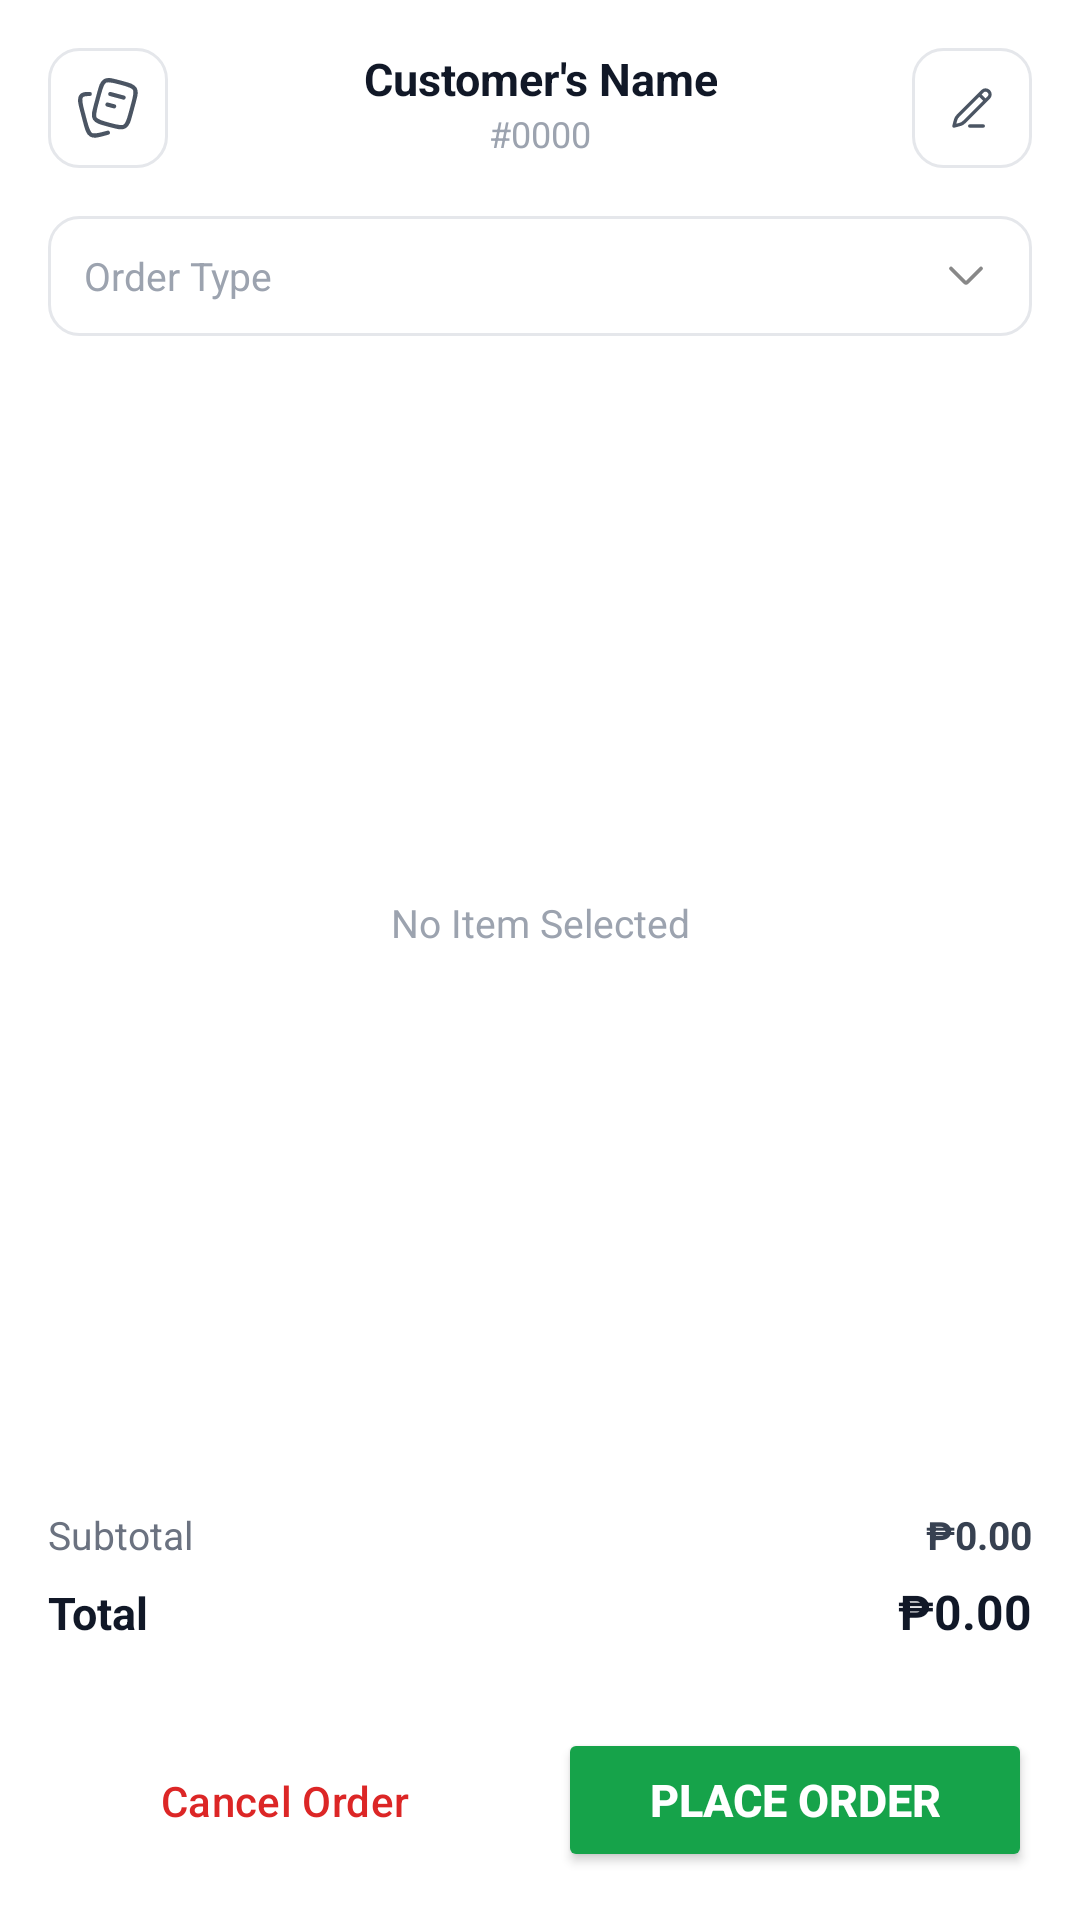

Named icons in this screenshot (1080 x 1920) and their bounding boxes, box=[x1, y1, x2, y2]:
desc: box=[78, 78, 138, 138]
edit: box=[952, 88, 992, 128]
